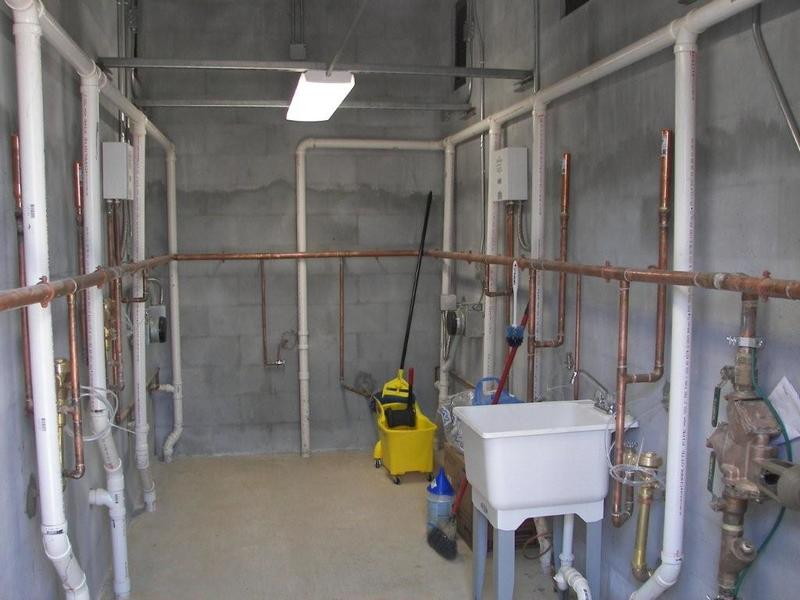valve: (713, 358, 733, 435), (699, 436, 725, 495)
